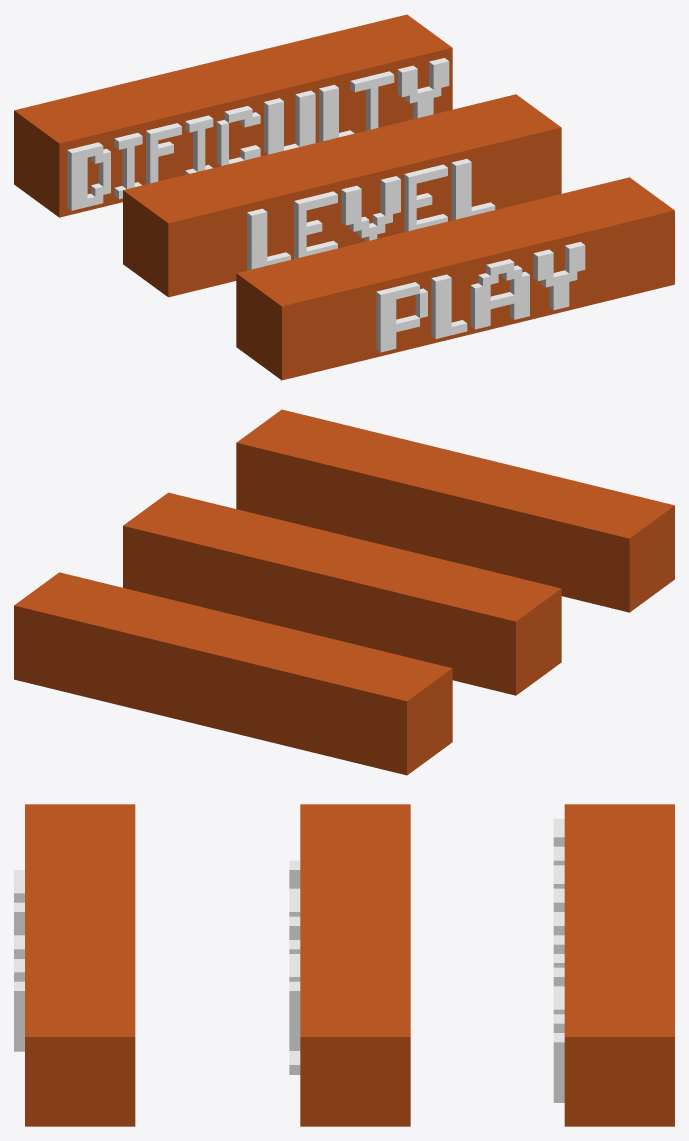
Rendered from IniuriaButtons.fbx.
3 views of the same model, one above another, from view 1: azimuth 30°, elevation 25°; view 2: azimuth 150°, elevation 25°; view 3: azimuth 270°, elevation 25° (orthographic). The views are drawn at different scales.
Visible parts, largest first — view 1: PlayButton, Level, DificultyButton; view 2: DificultyButton, PlayButton, Level; view 3: DificultyButton, Level, PlayButton.
Boxes of the visible parts, left/top/right/bottom form: PlayButton: left=236, top=177, right=674, bottom=380; Level: left=123, top=94, right=561, bottom=297; DificultyButton: left=14, top=14, right=452, bottom=217; DificultyButton: left=14, top=572, right=452, bottom=775; PlayButton: left=236, top=409, right=674, bottom=612; Level: left=123, top=492, right=561, bottom=695; DificultyButton: left=553, top=804, right=674, bottom=1126; Level: left=289, top=804, right=410, bottom=1126; PlayButton: left=14, top=804, right=135, bottom=1126.
Size of the model in its own units: 50 by 9 by 60.
Materials: 1 (1 with a texture image).
